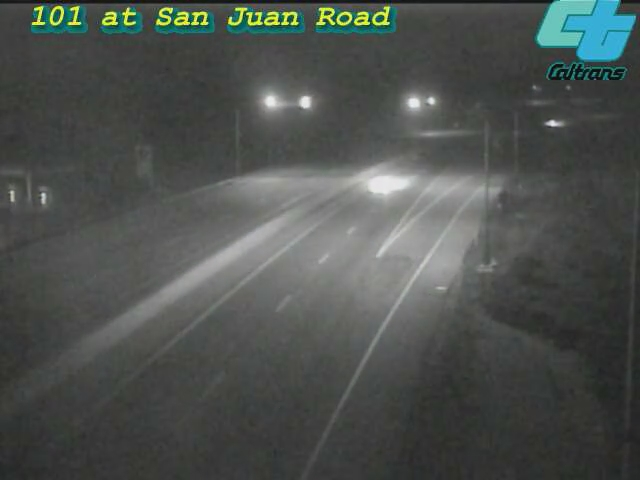vehicle: (346, 142, 426, 222), (528, 98, 578, 148)
